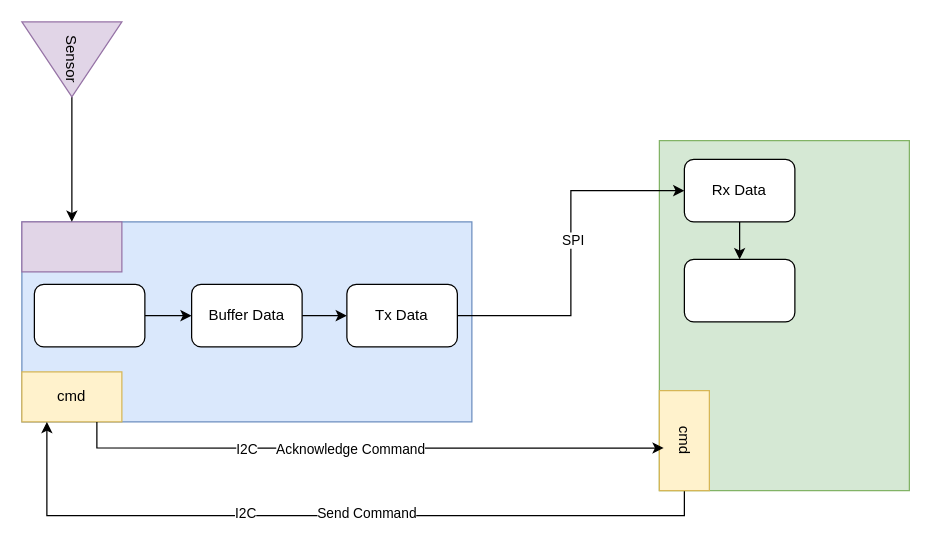
This 931x548 diagram has some shape labels left out. The shapes that lost their labels are listed below. From the top down, each one's centre as x and y in pixels, then its label:
the point at 71,246: analog
the point at 739,290: Write Data
the point at 89,315: Collect Data
